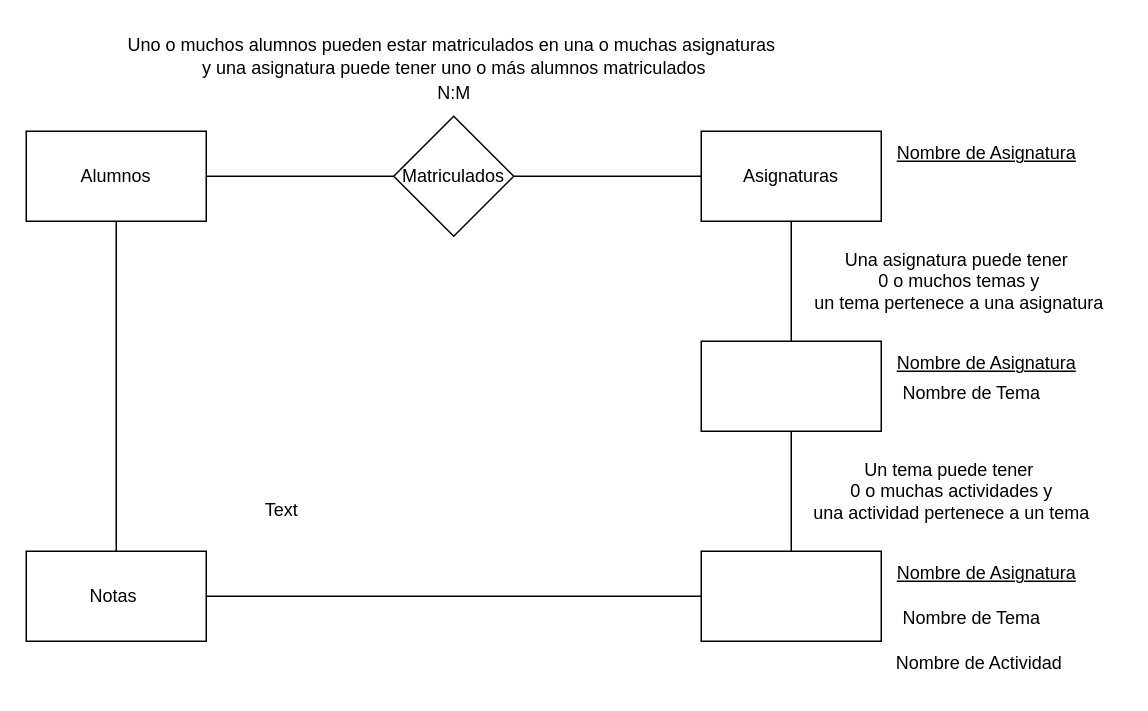
This 1148x711 diagram has some shape labels left out. The shapes that lost their labels are listed below. From the top down, each one's centre as x and y in pixels, then its label:
the point at 790,385: Tema
the point at 790,595: Actividad
